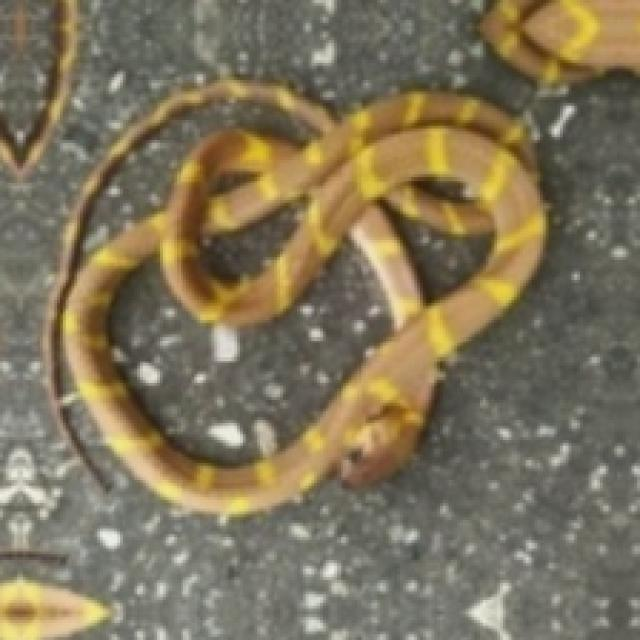mangrove cat snake: (46, 80, 543, 511)
